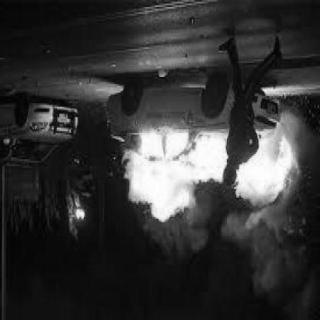Fire: (121, 130, 228, 232), (235, 129, 298, 235)
